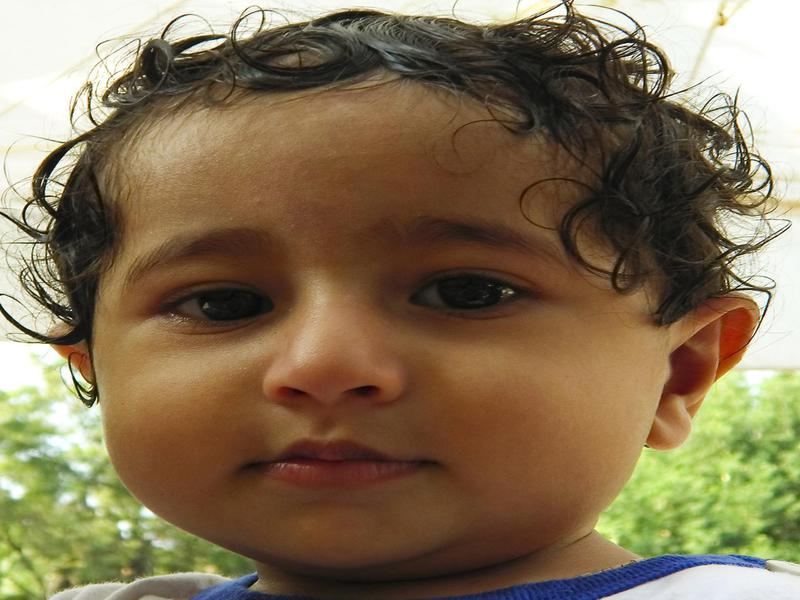person: (26, 3, 791, 598)
